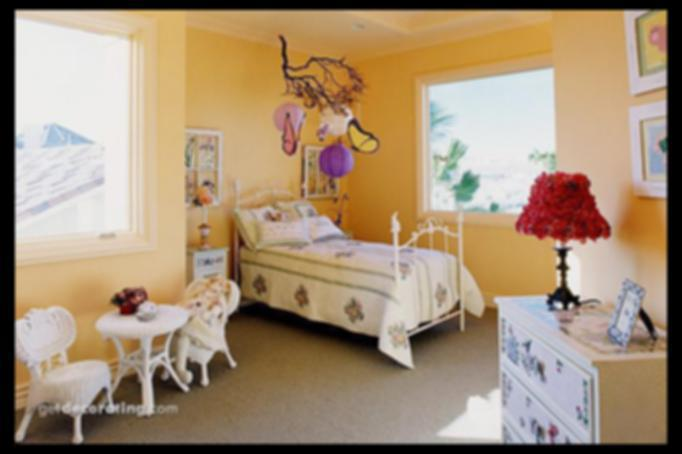Puerta: (20, 310, 115, 430), (174, 275, 243, 384)
